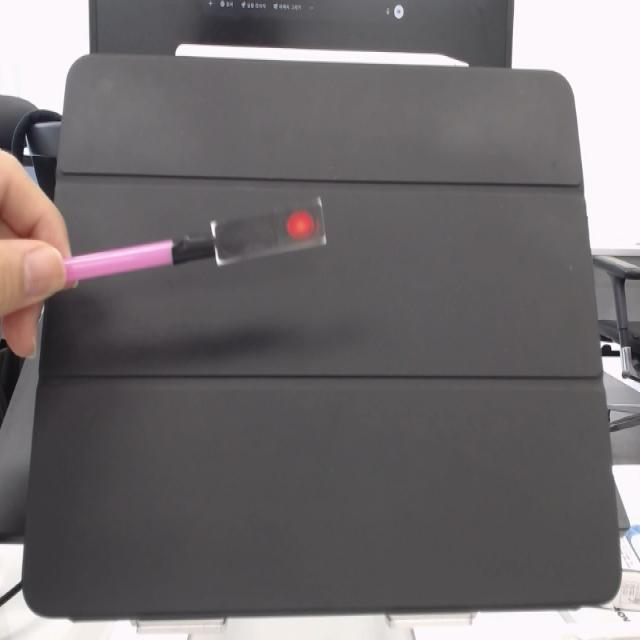traffic light: (212, 200, 327, 267)
